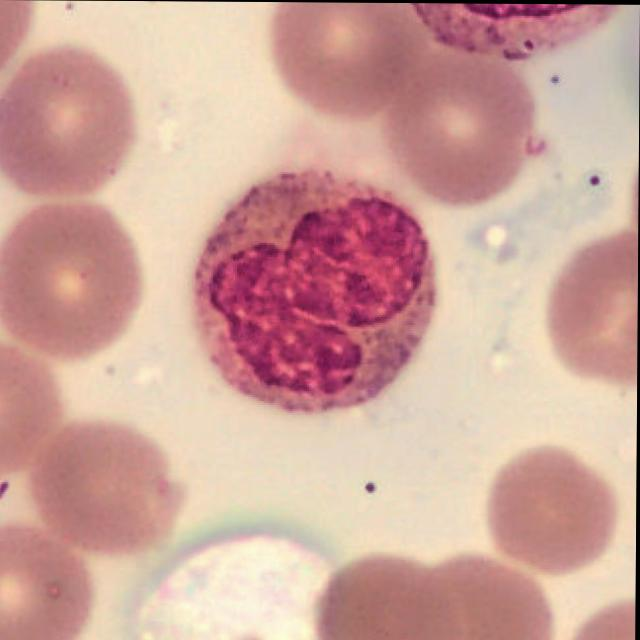Bastonete: (194, 168, 435, 413)
